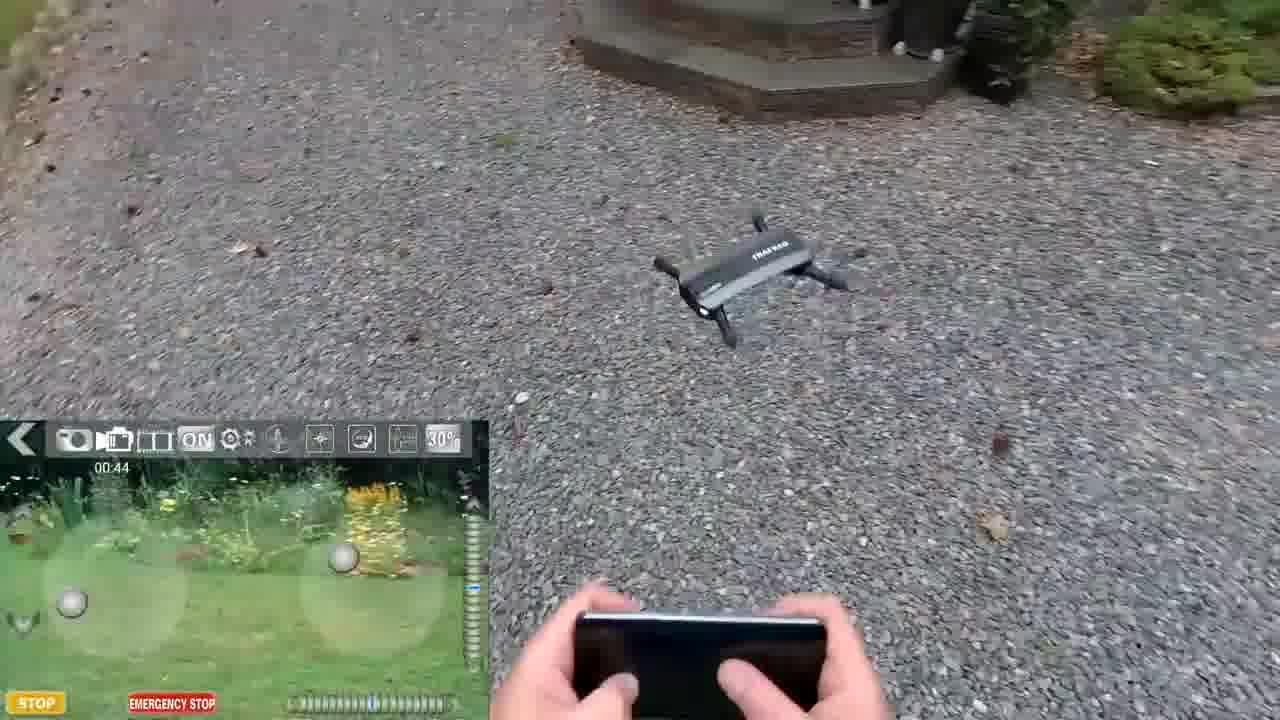drone: (632, 193, 898, 356)
